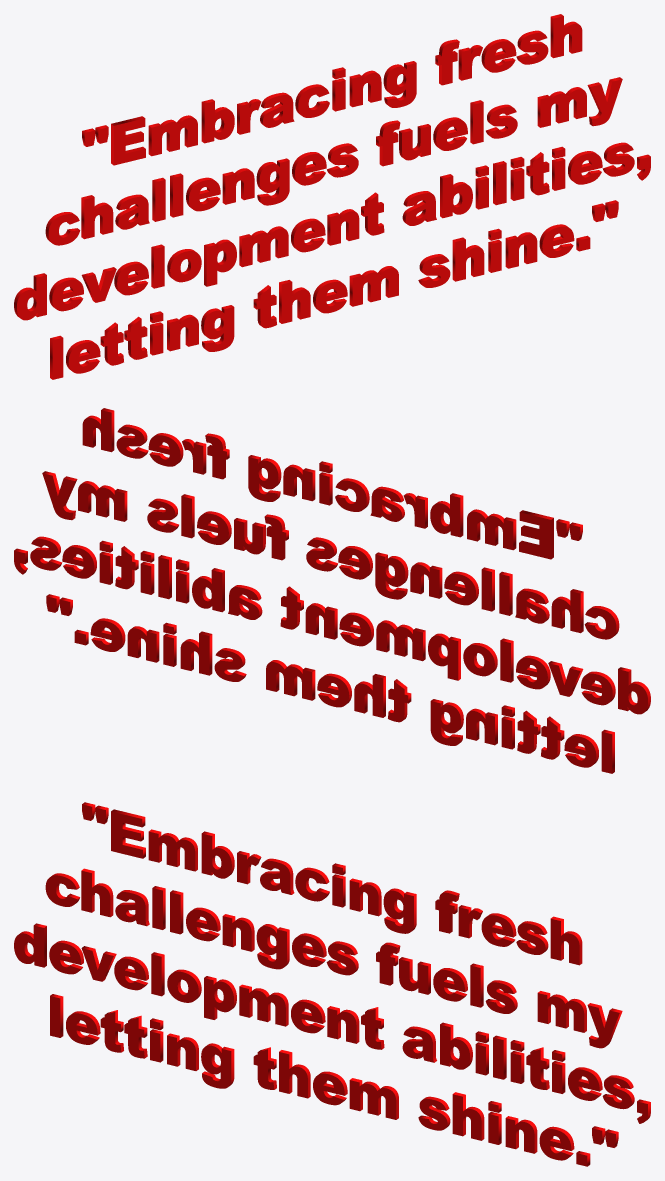
Rendered from desc-n1challenges.glb.
The picture shows the model from 3 angles, top to bottom: view 1: azimuth 30°, elevation 25°; view 2: azimuth 150°, elevation 25°; view 3: azimuth 330°, elevation 25°; orthographic projection.
Parts seen in each view (by area): view 1: challenges; view 2: challenges; view 3: challenges.
Boxes of the visible parts, <box> form: challenges: <box>14,14,650,379</box>; challenges: <box>14,408,650,773</box>; challenges: <box>14,802,650,1166</box>.
Size of the model in its own units: 0.1284 by 0.0487 by 0.001.
